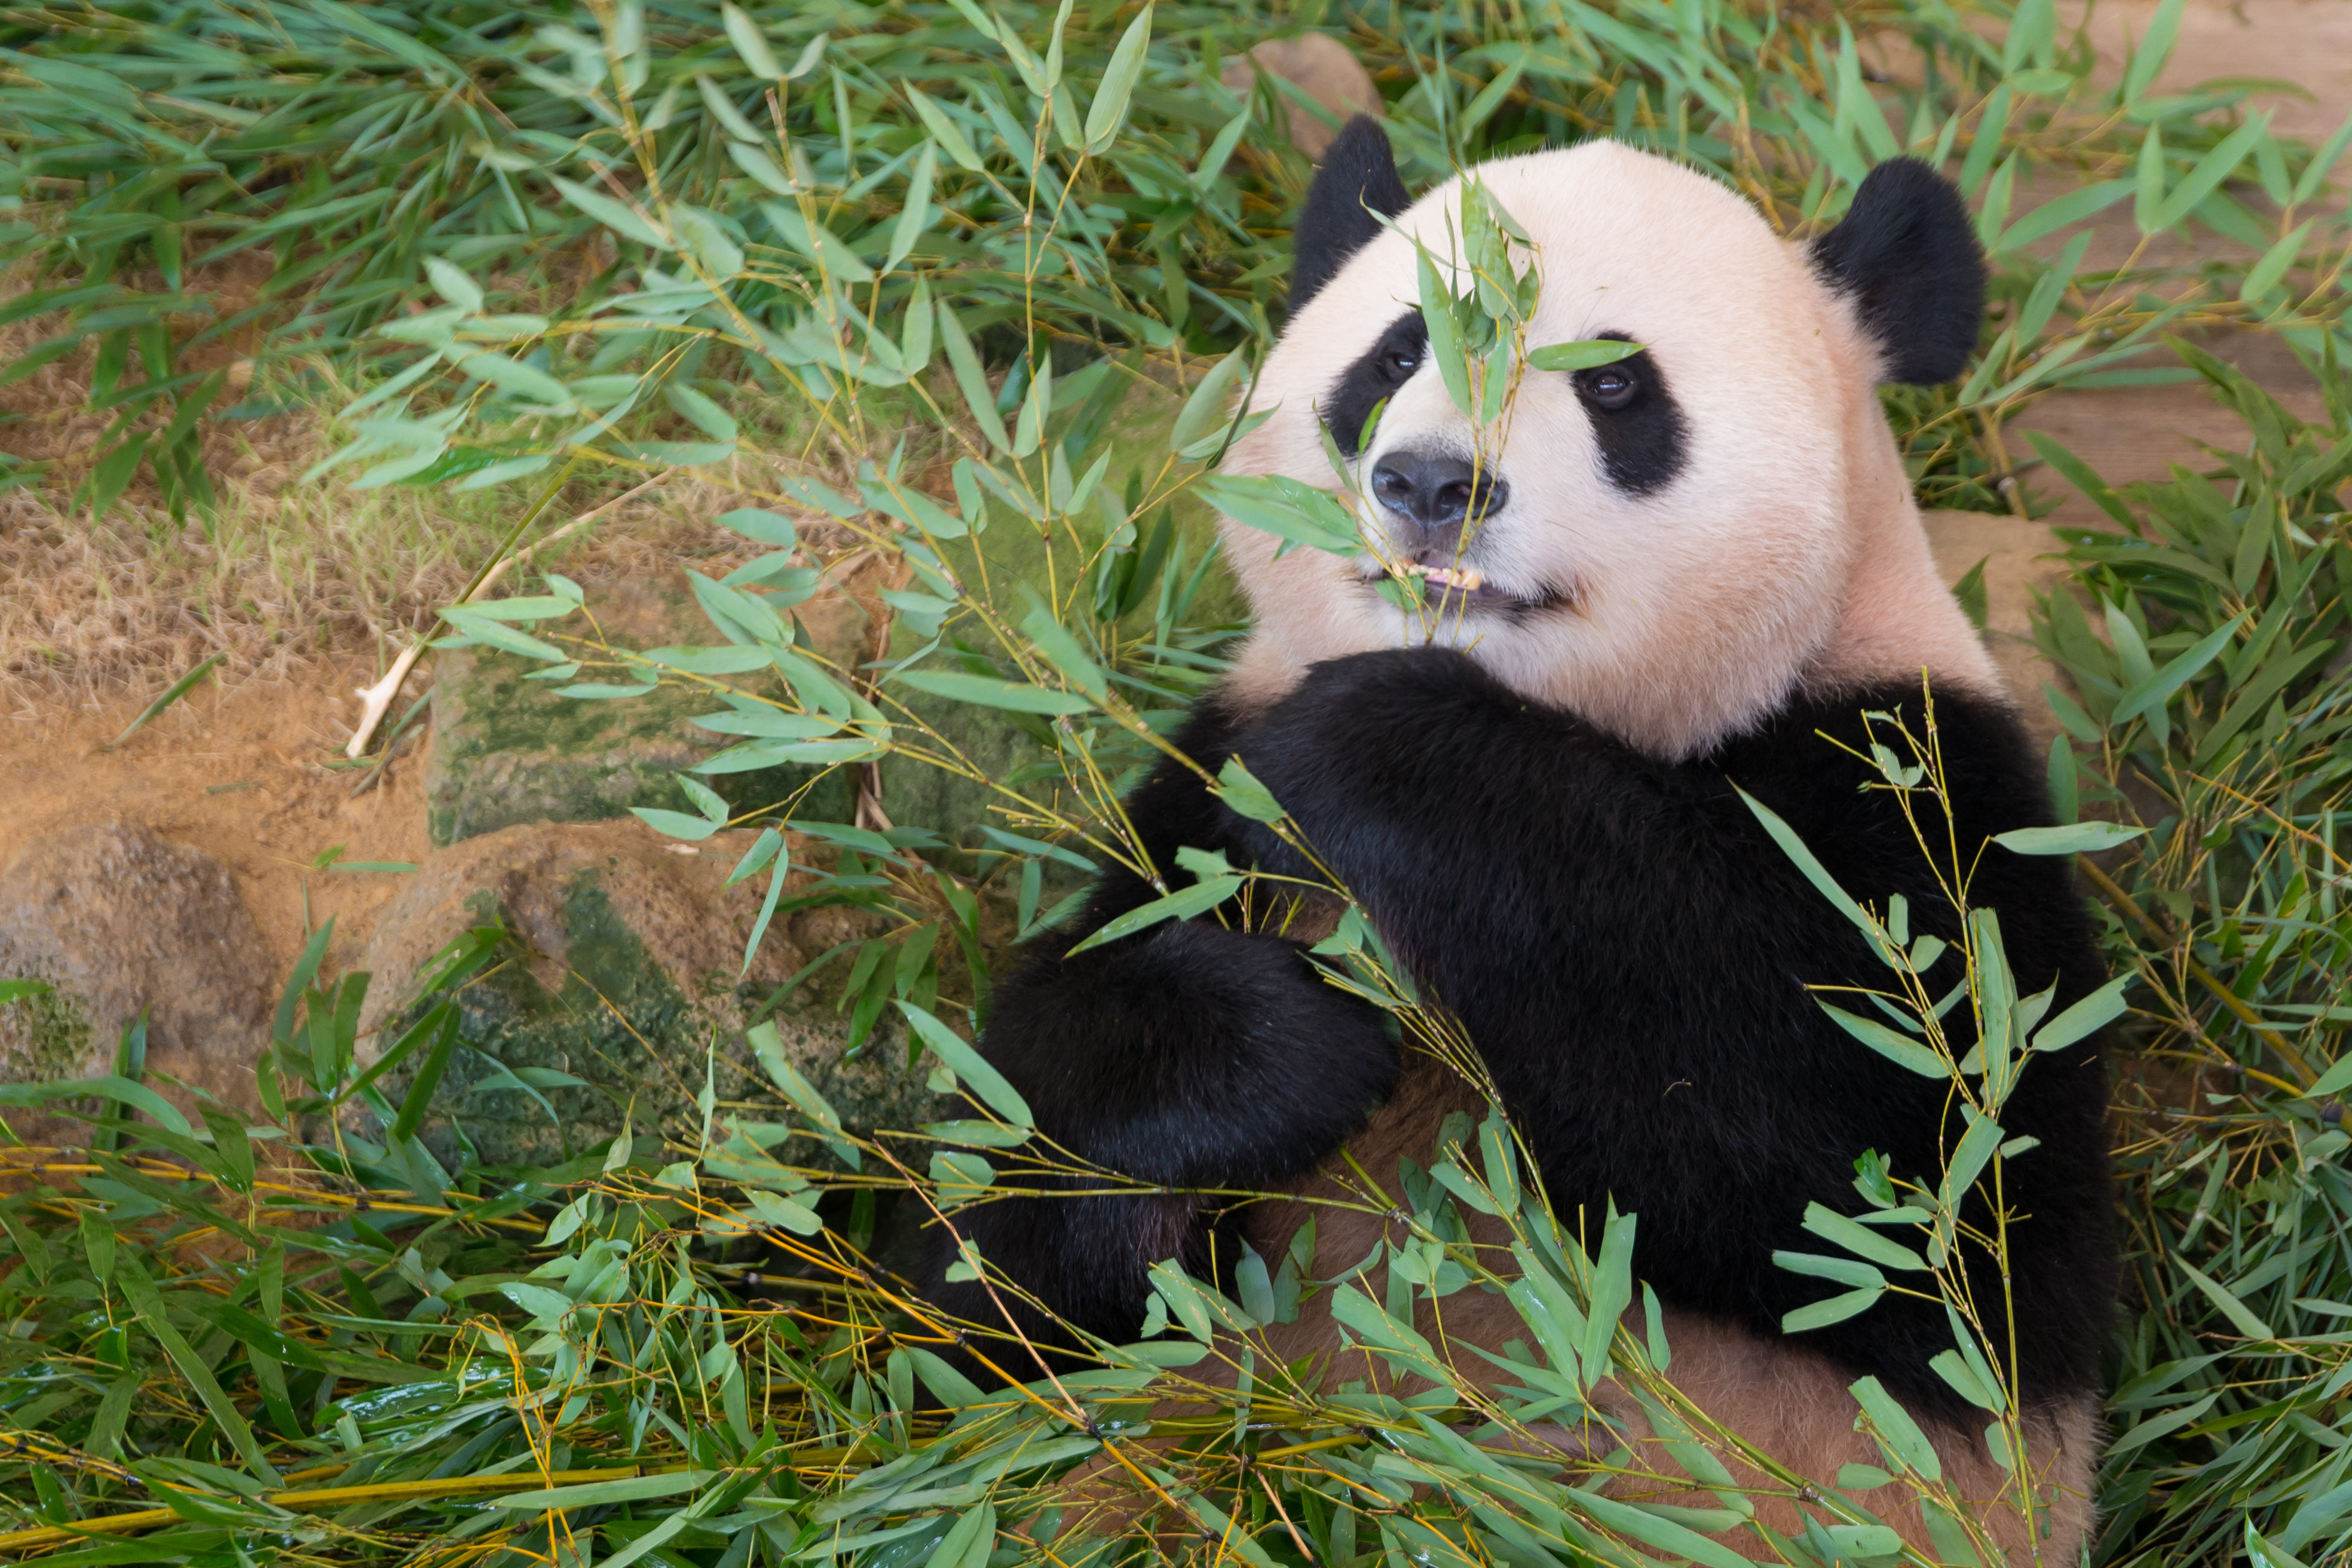panda: (819, 93, 2224, 1545)
